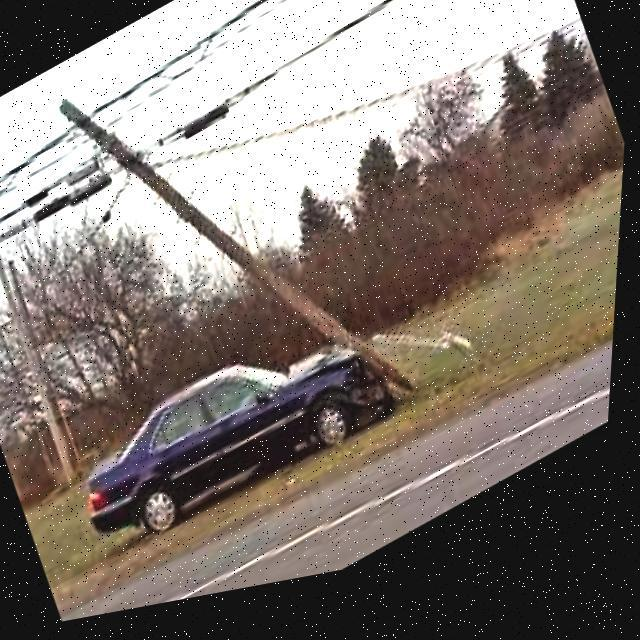Car Accident Detector - v4 Generation1 Exported: (54, 281, 428, 602)
